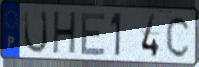1: (109, 11, 122, 58)
4: (140, 13, 161, 59)
C: (165, 14, 192, 59)
E: (80, 11, 107, 56)
H: (51, 10, 78, 56)
U: (23, 8, 50, 56)
